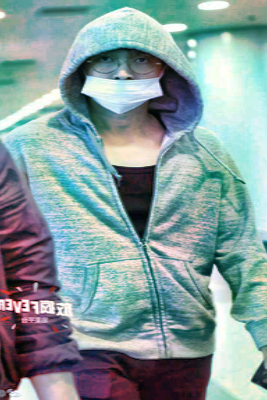mask_weared_incorrect: (79, 50, 167, 114)
